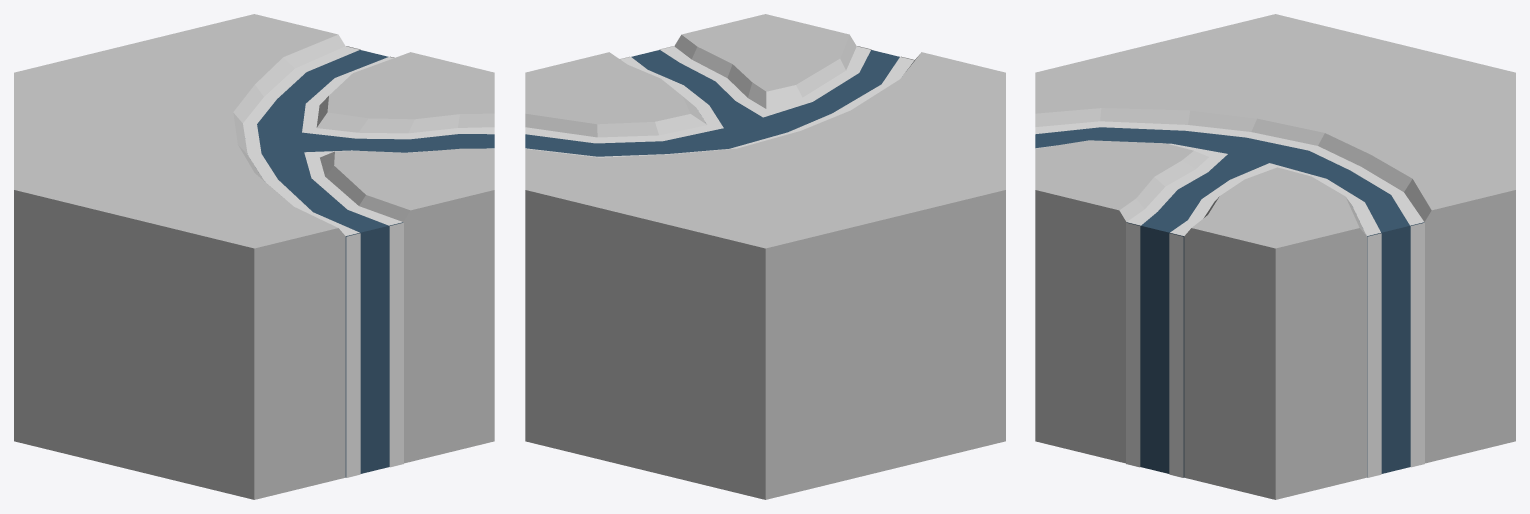
The model's file is Hexagon3_4.fbx.
The picture shows the model from 3 angles, left to right: view 1: azimuth 30°, elevation 25°; view 2: azimuth 150°, elevation 25°; view 3: azimuth 270°, elevation 25°; orthographic projection.
Parts seen in each view (by area): view 1: Hex3_4; view 2: Hex3_4; view 3: Hex3_4.
Part boxes in pixels (x1,y1,x2,y2): Hex3_4: (14,14,494,499); Hex3_4: (525,14,1005,499); Hex3_4: (1035,14,1515,499).
Size of the model in its own units: 1000 by 500 by 868.
